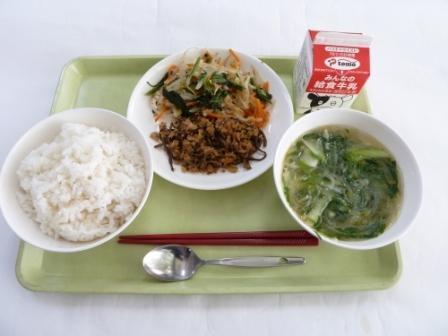Milk: (286, 24, 383, 122)
Rice: (0, 110, 153, 241)
Soups: (277, 113, 421, 242)
cooked food based on meat: (149, 116, 267, 175)
salad with sauce: (146, 49, 275, 127)
